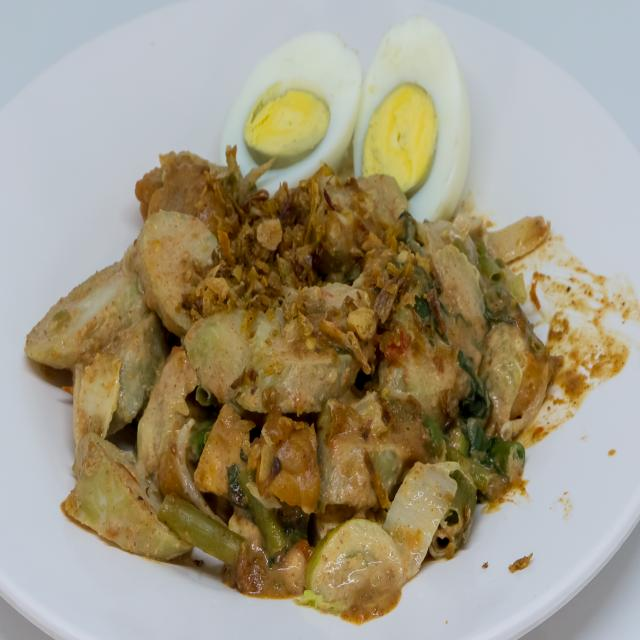Gado-Gado: (15, 21, 558, 627)
